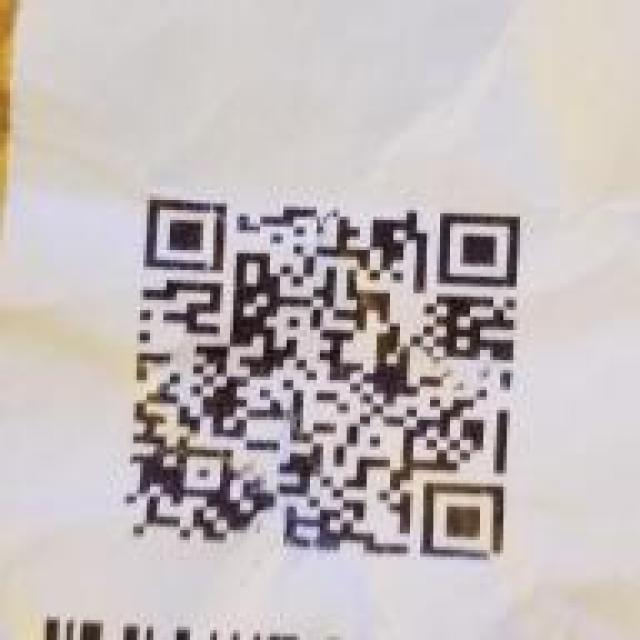qr_code: (125, 198, 520, 561)
